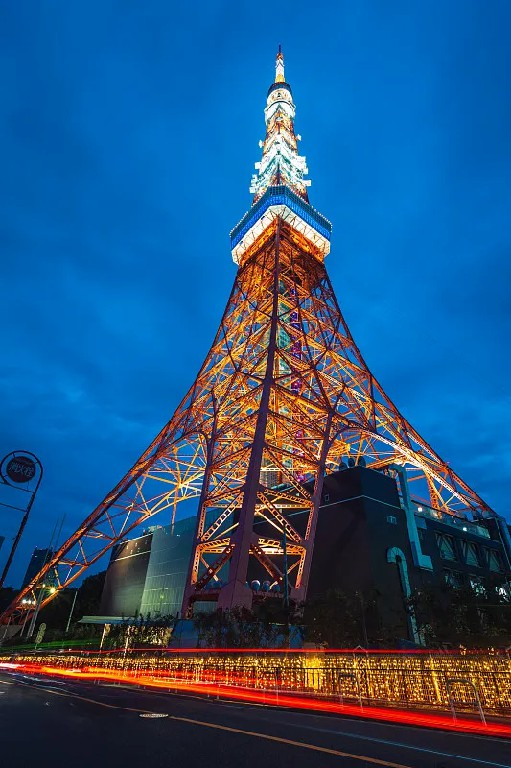Tokyo: (5, 39, 504, 626)
